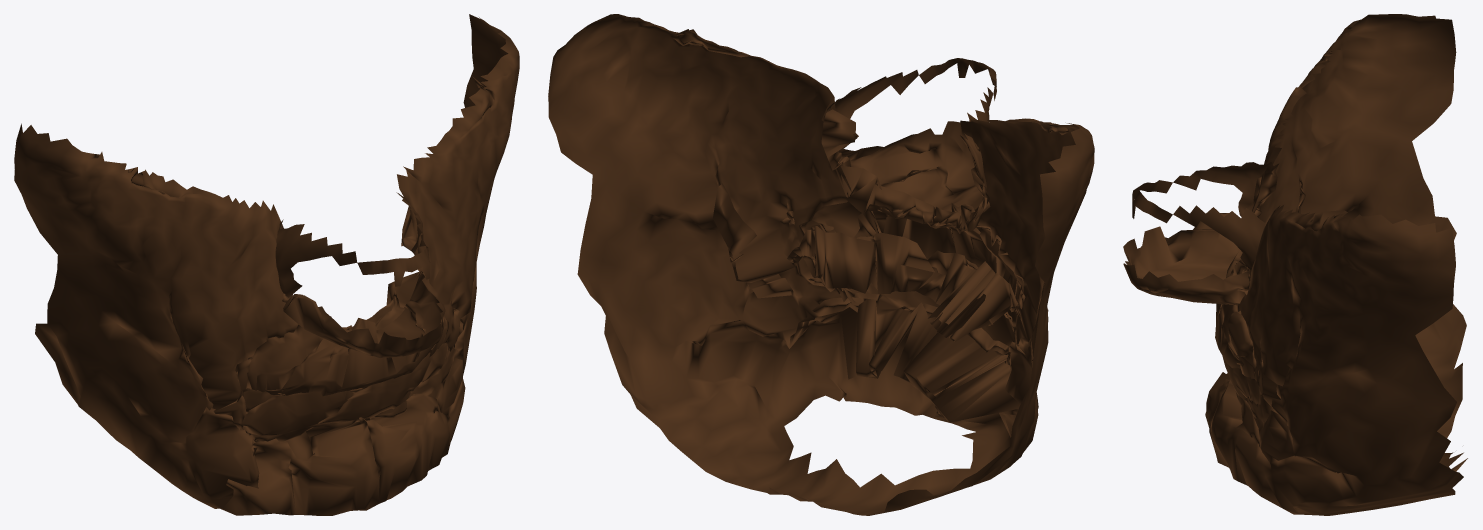
File: kopf.bart.vollbart.glb
3 views of the same model, side by side, from view 1: azimuth 30°, elevation 25°; view 2: azimuth 150°, elevation 25°; view 3: azimuth 270°, elevation 25° (orthographic). The views are drawn at different scales.
Visible parts, largest first — view 1: bart; view 2: bart; view 3: bart.
Boxes of the visible parts, x1,y1,x2,y2 form: bart: (14,14,519,515); bart: (548,14,1094,515); bart: (1123,14,1467,515).
Size of the model in its own units: 0.172 by 0.1322 by 0.1141.
